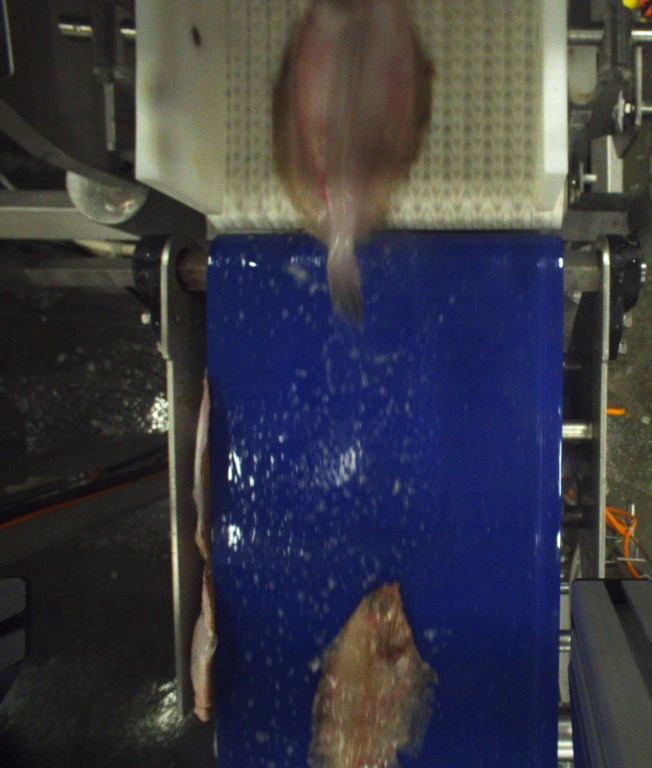WIT: (311, 579, 440, 768)
